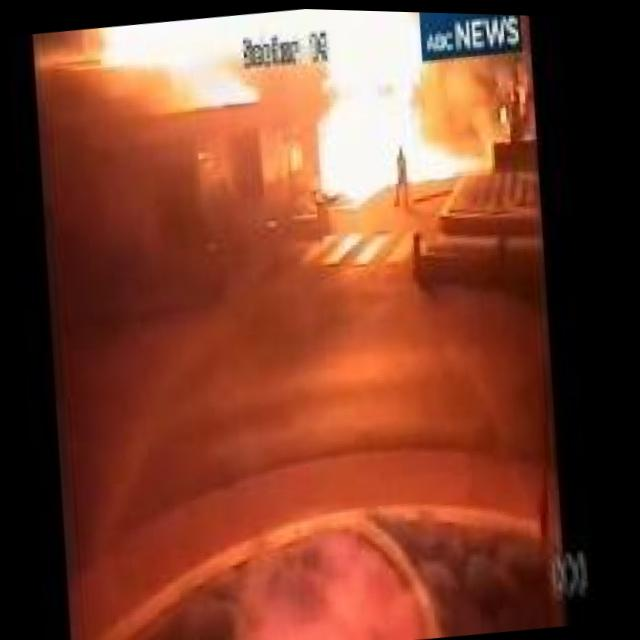fire: (268, 6, 505, 224), (80, 5, 309, 127)
